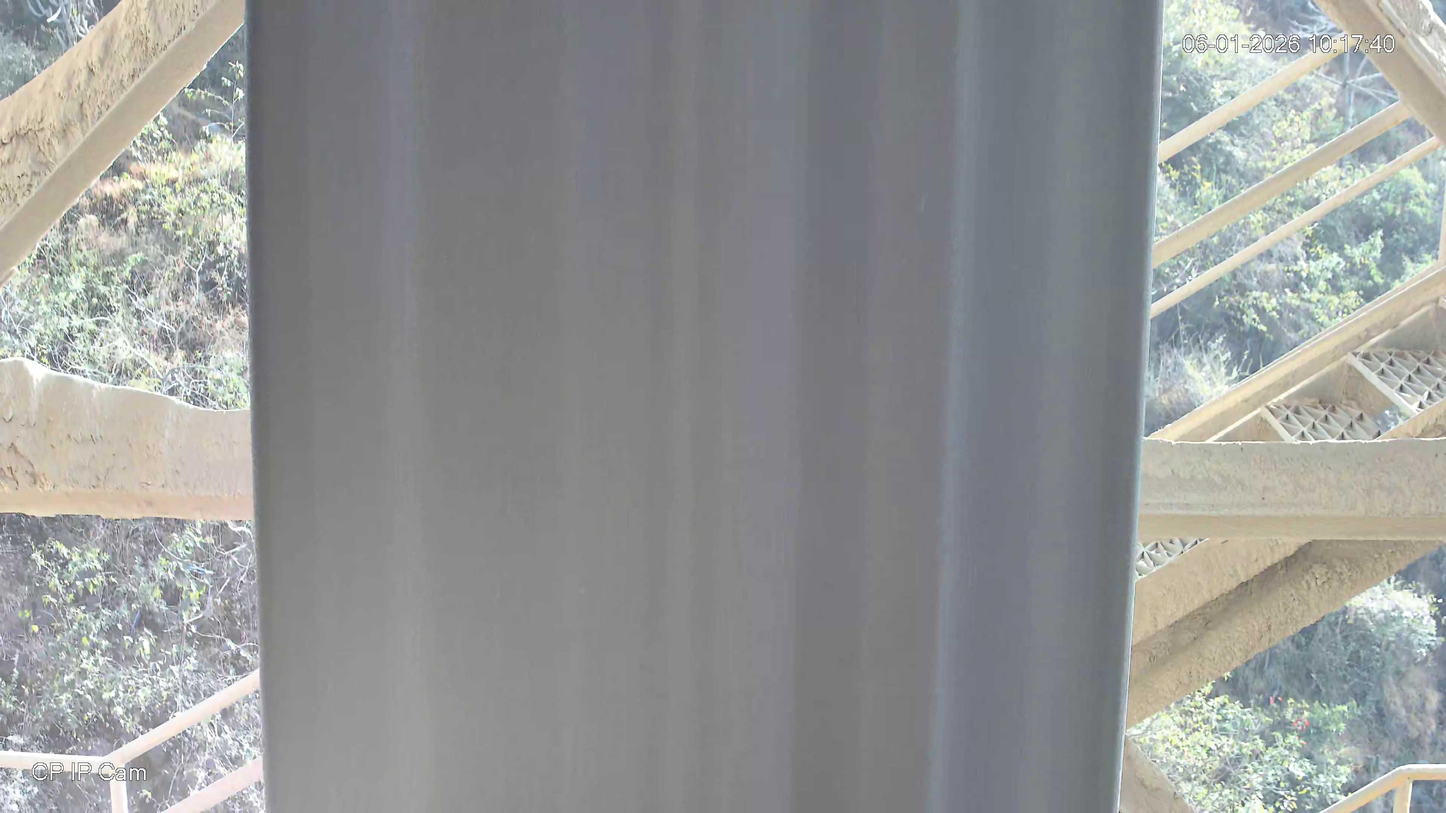belt_roi: (247, 0, 1163, 813)
